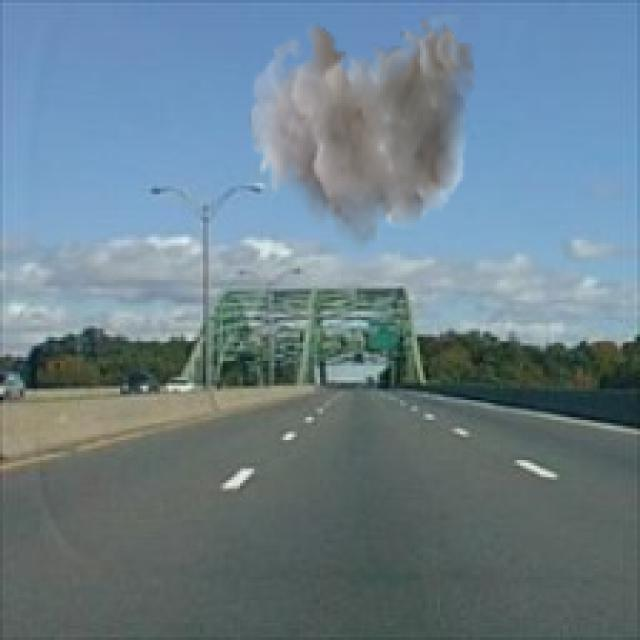Smoke: (249, 17, 477, 257)
